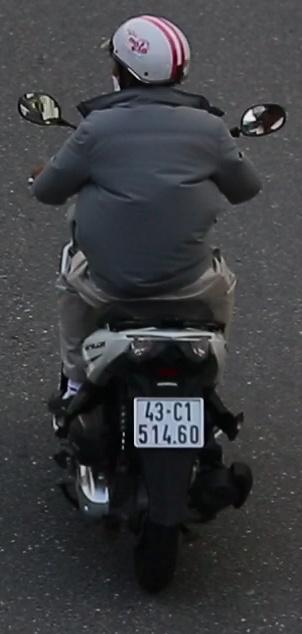LP: (129, 395, 210, 452)
helmet: (97, 8, 197, 111)
